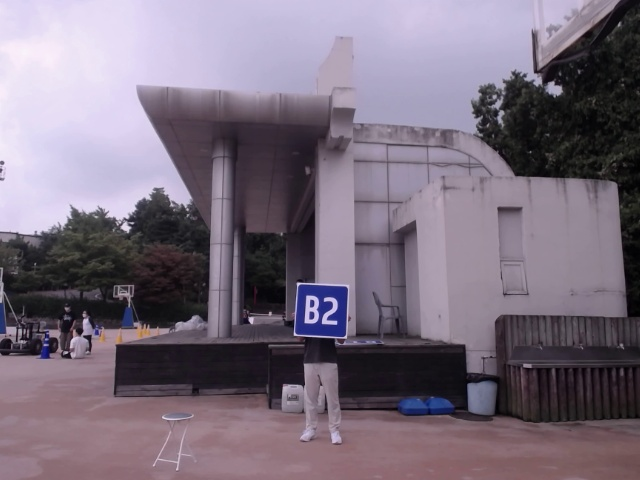delivery_b2: (295, 283, 348, 339)
